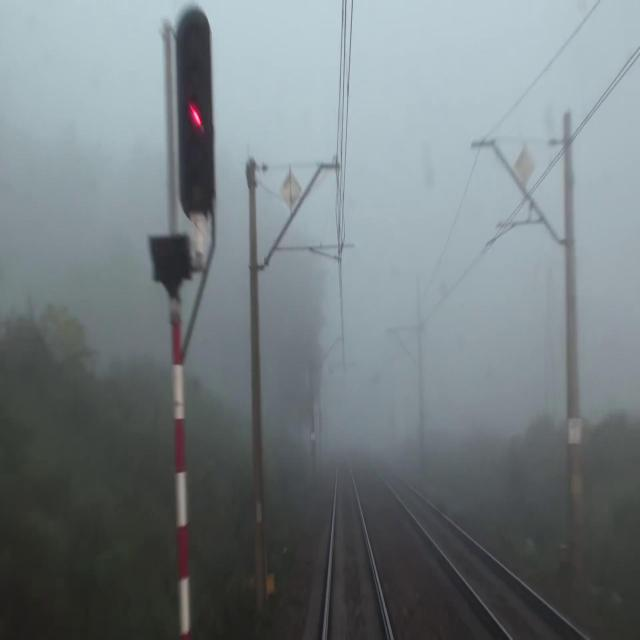rail-track: (376, 461, 579, 639), (327, 460, 388, 639)
